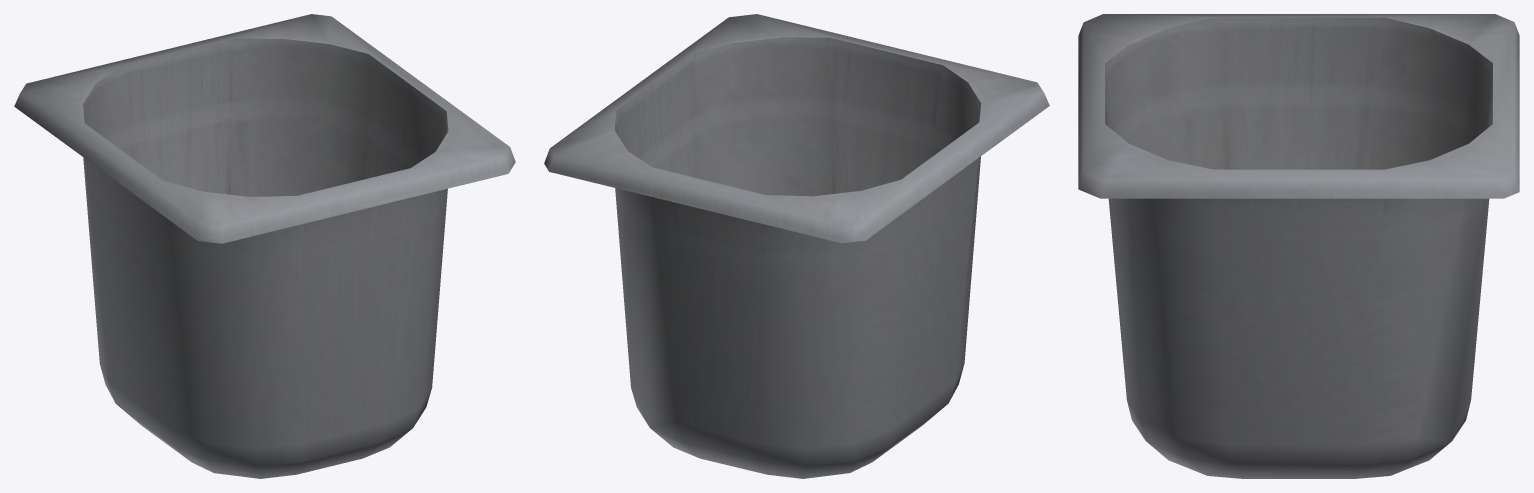
Rendered from SM_Hotel_Pan150_1_6_01.glb.
The picture shows the model from 3 angles, left to right: view 1: azimuth 30°, elevation 25°; view 2: azimuth 150°, elevation 25°; view 3: azimuth 270°, elevation 25°; orthographic projection. The views are drawn at different scales.
Parts seen in each view (by area): view 1: SM_Hotel_Pan150_1_6_01; view 2: SM_Hotel_Pan150_1_6_01; view 3: SM_Hotel_Pan150_1_6_01.
Boxes of the visible parts, <box> form: SM_Hotel_Pan150_1_6_01: <box>14,14,515,478</box>; SM_Hotel_Pan150_1_6_01: <box>544,14,1049,478</box>; SM_Hotel_Pan150_1_6_01: <box>1078,14,1519,478</box>.
Size of the model in its own units: 0.1611 by 0.1492 by 0.1757.
1 material, 1 textured.
